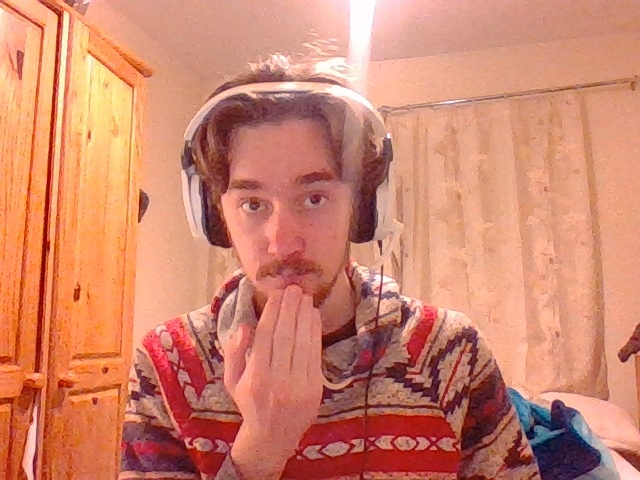thanks: (223, 284, 324, 458)
